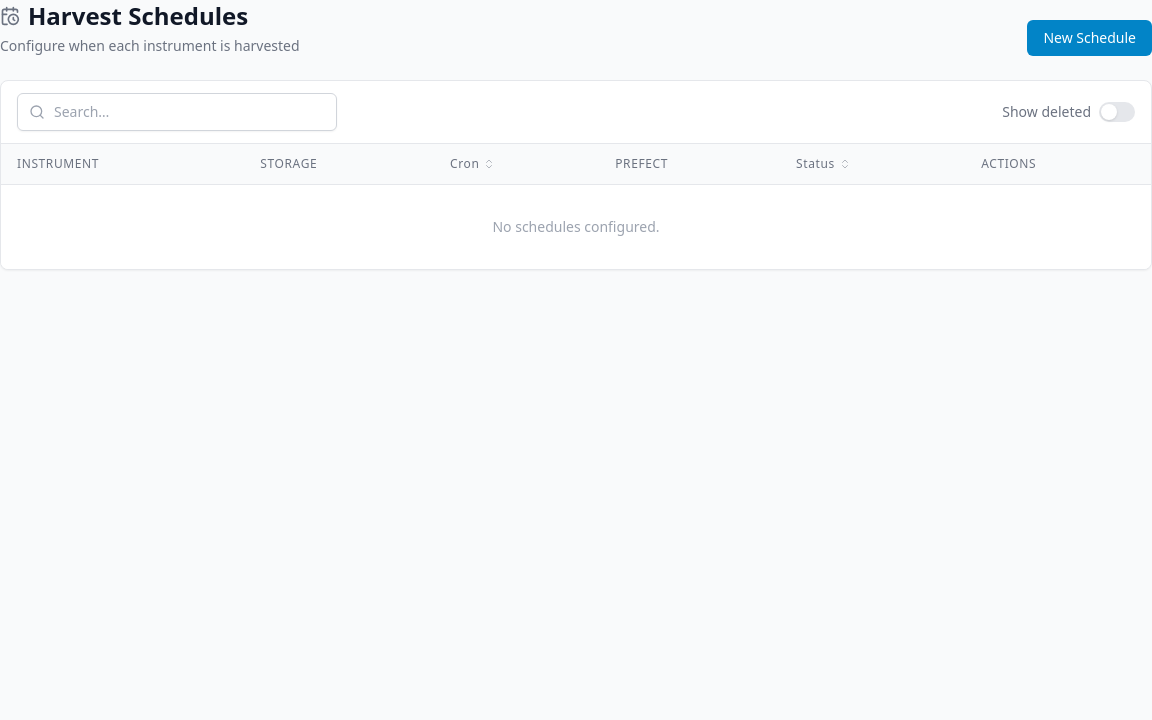
Test case: Schedules admin page › modal closes when Cancel is clicked
Step 1. Click the button "New Schedule" → (1090, 38), box [1027,20,1151,56]
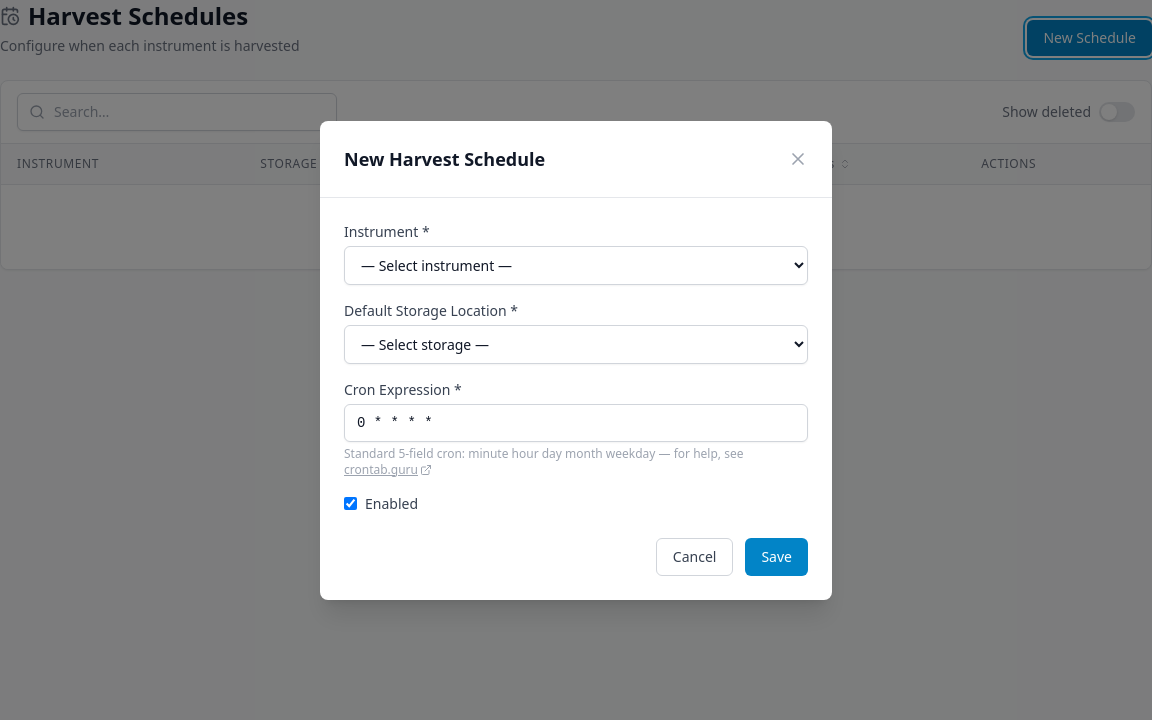
Expected: the heading "New Harvest Schedule" is shown, [344,144,545,172]
Step 2. Click the button "Cancel" → (695, 556), box [656,538,733,576]
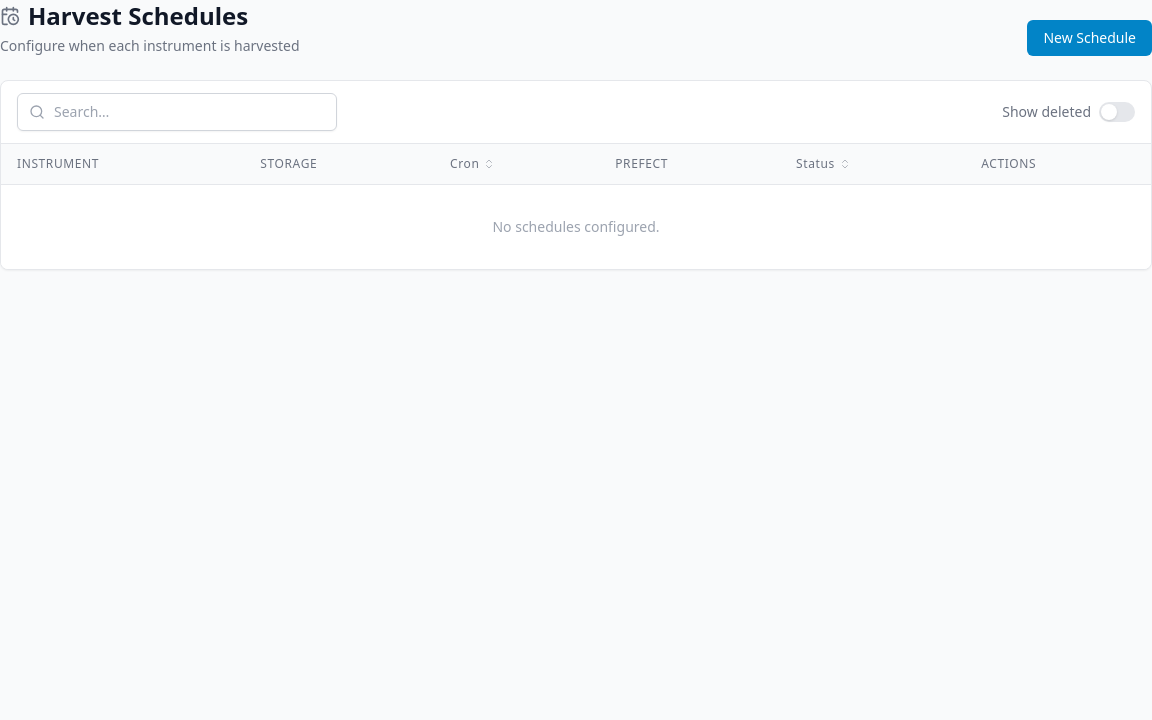
Expected: the heading "New Harvest Schedule" is gone
